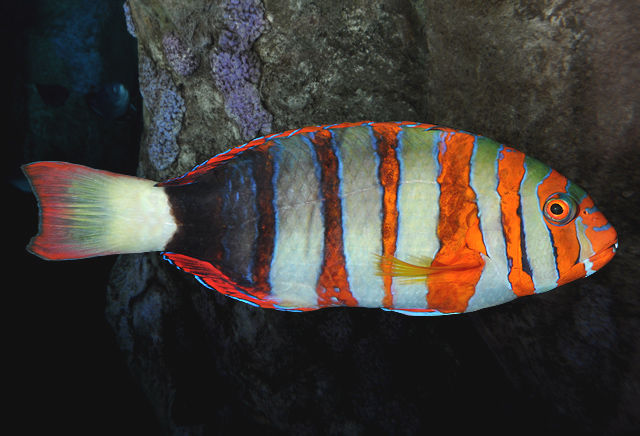fish: (22, 120, 618, 317)
